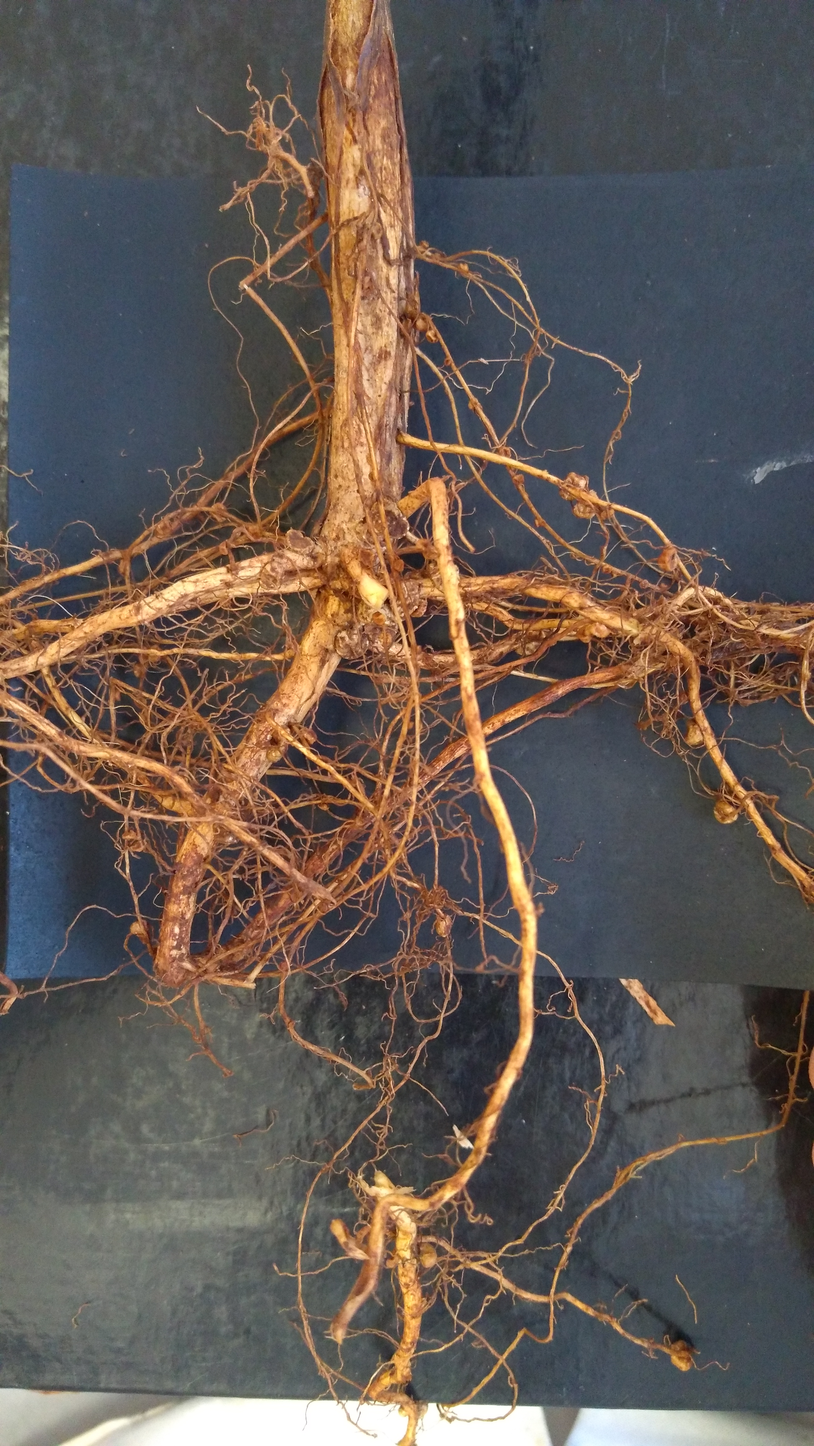nodule: (367, 493, 412, 542), (389, 579, 421, 628), (330, 628, 374, 662), (257, 560, 288, 595), (282, 527, 318, 557), (555, 469, 586, 503), (571, 485, 601, 519), (679, 717, 708, 750), (710, 799, 743, 827), (668, 1338, 694, 1373), (412, 537, 446, 561), (396, 1399, 431, 1421), (359, 543, 388, 569), (656, 543, 681, 573), (513, 635, 544, 659), (417, 1240, 439, 1271), (430, 913, 456, 939), (586, 617, 615, 640), (208, 499, 232, 524), (355, 597, 376, 624), (573, 622, 596, 645), (128, 917, 154, 937), (264, 744, 287, 765), (410, 596, 430, 619), (382, 1253, 406, 1270), (271, 723, 292, 742), (147, 643, 164, 665), (370, 608, 387, 629), (120, 828, 143, 843), (598, 502, 616, 521), (301, 725, 317, 746), (467, 396, 484, 415), (131, 661, 148, 679), (424, 328, 440, 347), (115, 556, 128, 579), (217, 539, 229, 560), (108, 685, 121, 704), (133, 694, 148, 710), (392, 557, 406, 574), (458, 261, 470, 280), (414, 317, 431, 330), (498, 445, 512, 460), (510, 473, 526, 486), (316, 803, 332, 812), (600, 563, 612, 575), (638, 578, 650, 590), (248, 524, 261, 535), (414, 640, 424, 654), (419, 239, 432, 249), (442, 357, 453, 368), (533, 517, 540, 529)
